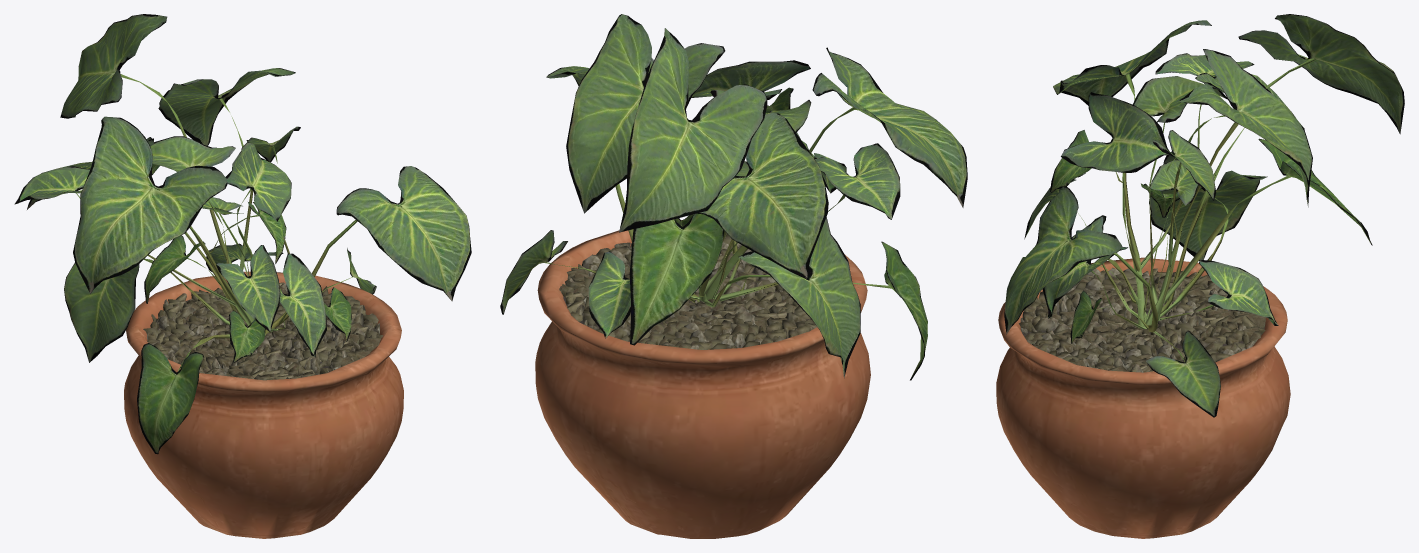
Rendered from potted-elephant-ear.b3302f7cb4.glb.
3 renders of one model, left to right at view 1: azimuth 30°, elevation 25°; view 2: azimuth 150°, elevation 25°; view 3: azimuth 270°, elevation 25°, orthographic. The views are drawn at different scales.
Visible parts, largest first — view 1: potted_plant_02_leaves, potted_plant_02_pot; view 2: potted_plant_02_leaves, potted_plant_02_pot; view 3: potted_plant_02_pot, potted_plant_02_leaves.
Part boxes in pixels (x1,y1,x2,y2): potted_plant_02_leaves: [14, 14, 471, 454]; potted_plant_02_pot: [124, 271, 403, 538]; potted_plant_02_leaves: [500, 14, 967, 380]; potted_plant_02_pot: [535, 220, 870, 538]; potted_plant_02_pot: [996, 257, 1290, 538]; potted_plant_02_leaves: [1004, 14, 1404, 417].
Bounding box in the file's own units: 0.7009 × 0.8401 × 0.6561.
Materials: 2 (2 with a texture image).
